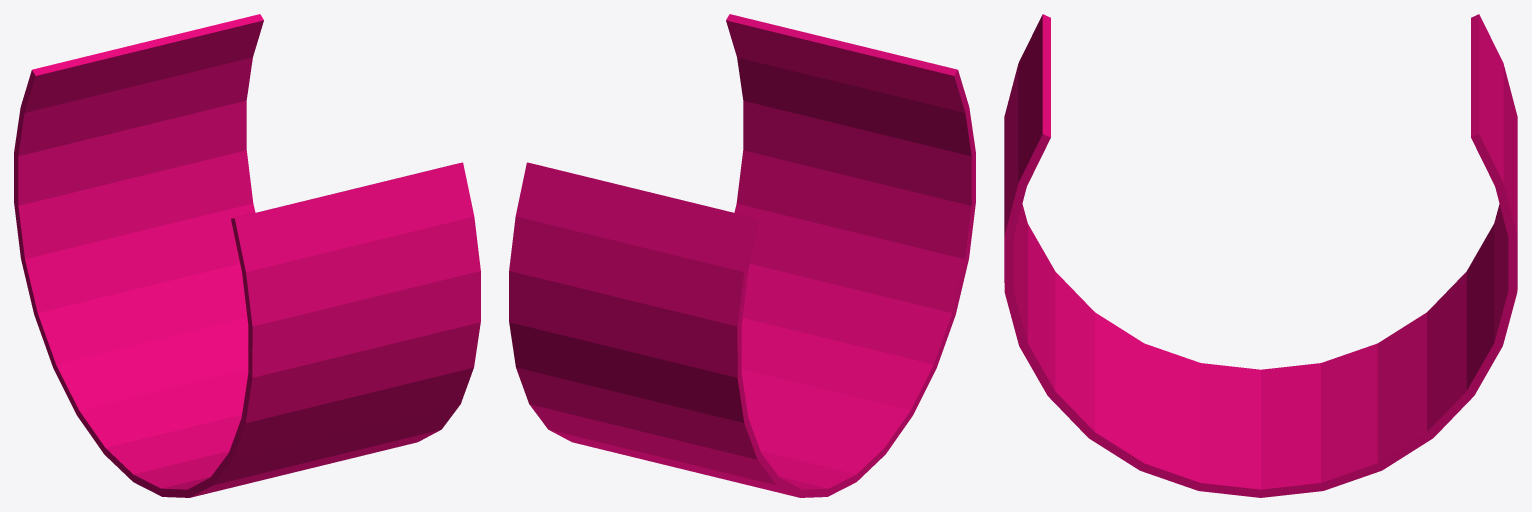
The model's file is Floor_03_Roof_Bend_03.fbx.
The picture shows the model from 3 angles, left to right: view 1: azimuth 30°, elevation 25°; view 2: azimuth 150°, elevation 25°; view 3: azimuth 270°, elevation 25°; orthographic projection. The views are drawn at different scales.
Visible parts, largest first — view 1: Floor_03_Roof_Bend_03; view 2: Floor_03_Roof_Bend_03; view 3: Floor_03_Roof_Bend_03.
Boxes of the visible parts, left/top/right/bottom form: Floor_03_Roof_Bend_03: left=14, top=14, right=480, bottom=497; Floor_03_Roof_Bend_03: left=509, top=14, right=975, bottom=497; Floor_03_Roof_Bend_03: left=1004, top=14, right=1517, bottom=497.
Size of the model in its own units: 206 by 292 by 372.
